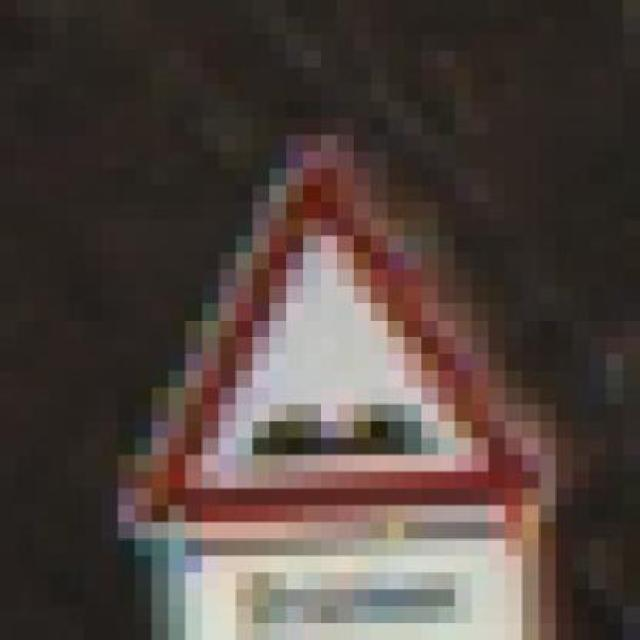Uneven Road: (101, 101, 556, 539)
